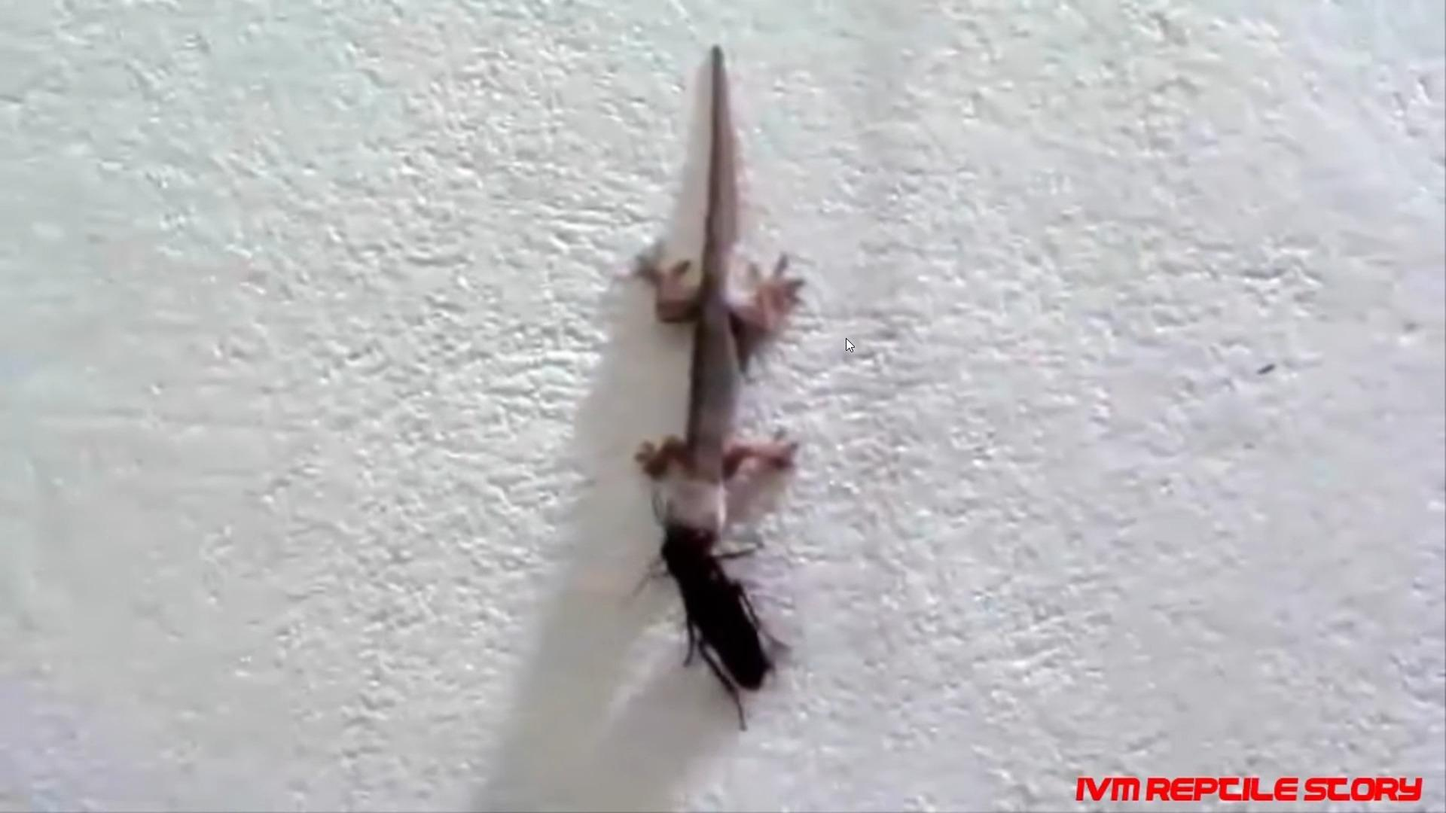cockroach: (654, 528, 769, 701)
lizard: (636, 86, 797, 541)
